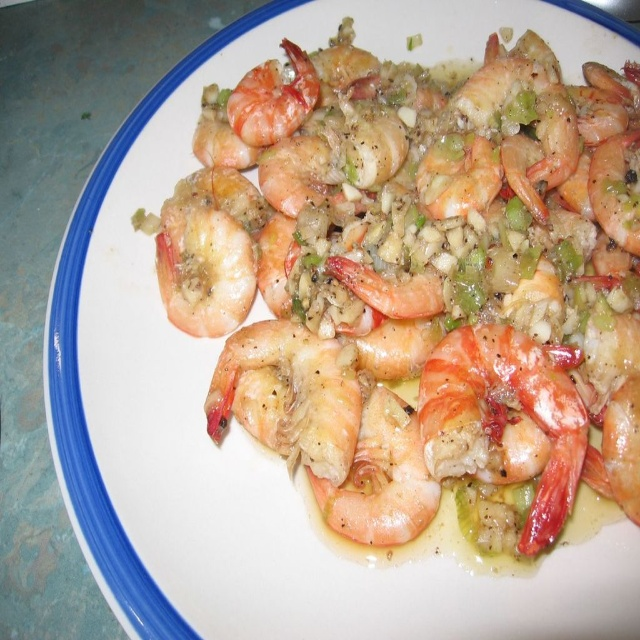Shrimp: (130, 16, 640, 555)
